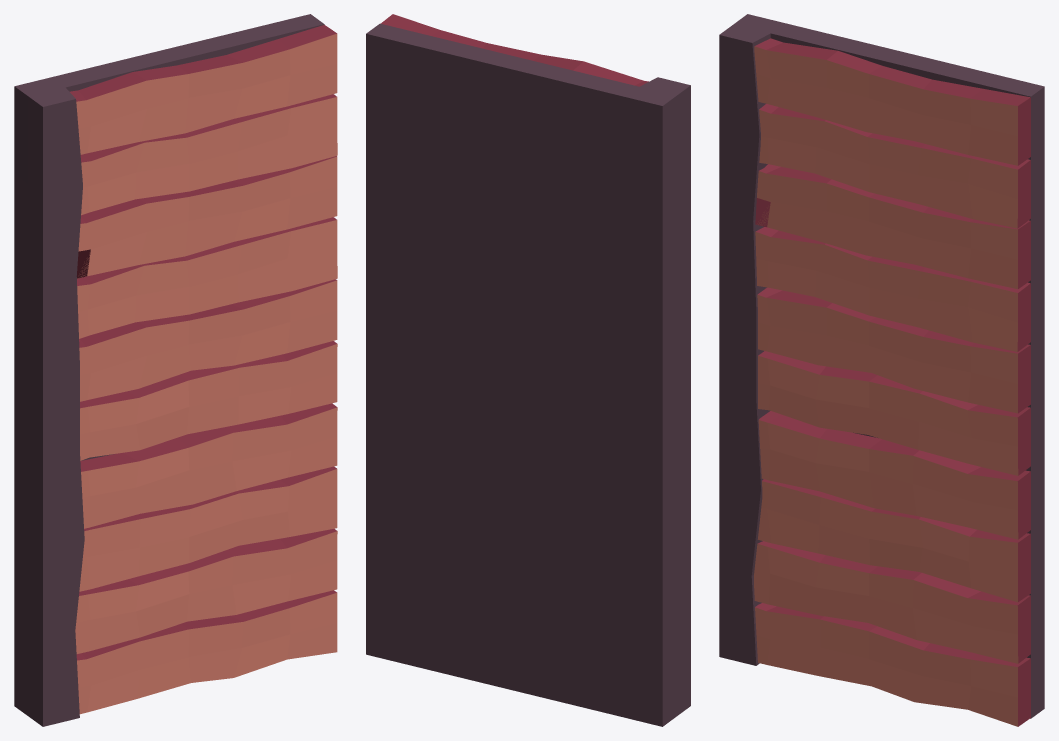
Rendered from wall_wst_Frame_L.glb.
The picture shows the model from 3 angles, left to right: view 1: azimuth 30°, elevation 25°; view 2: azimuth 150°, elevation 25°; view 3: azimuth 330°, elevation 25°; orthographic projection.
Parts seen in each view (by area): view 1: Cube.006, Cube.004; view 2: Cube.004, Cube.006; view 3: Cube.006, Cube.004.
Boxes of the visible parts, x1,y1,x2,y2 form: Cube.006: (70, 25, 337, 714); Cube.004: (14, 14, 324, 726); Cube.004: (366, 23, 690, 726); Cube.006: (381, 14, 648, 86); Cube.006: (754, 38, 1030, 726); Cube.004: (719, 14, 1044, 718).
Bounding box in the file's own units: 1 × 2 × 0.1663.
1 material, 1 textured.
